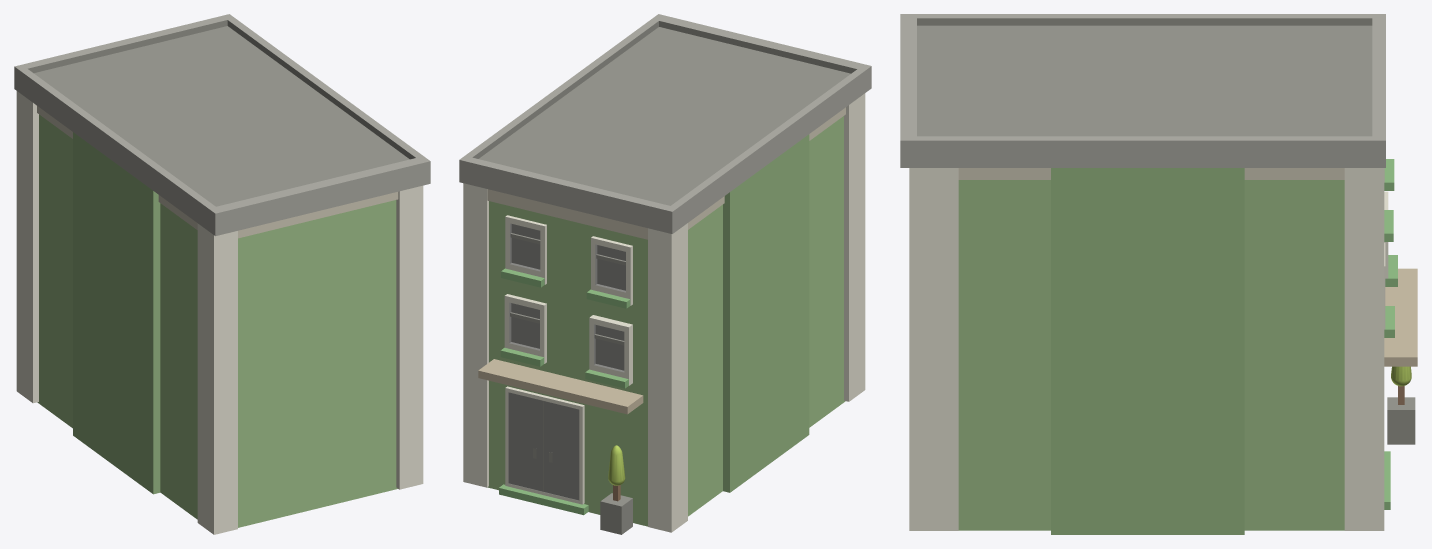
File: house2.fbx
3 views of the same model, side by side, from view 1: azimuth 30°, elevation 25°; view 2: azimuth 150°, elevation 25°; view 3: azimuth 270°, elevation 25° (orthographic). The views are drawn at different scales.
Parts seen in each view (by area): view 1: dom1; view 2: dom1; view 3: dom1.
Part boxes in pixels (x1,y1,x2,y2): dom1: [14, 14, 430, 534]; dom1: [459, 14, 871, 534]; dom1: [900, 14, 1417, 534].
Bounding box in the file's own units: 710 × 1031 × 1225.
